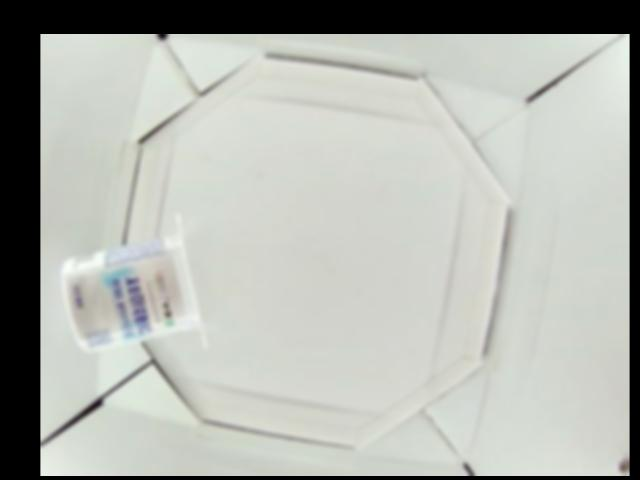Cup: (61, 212, 207, 353)
